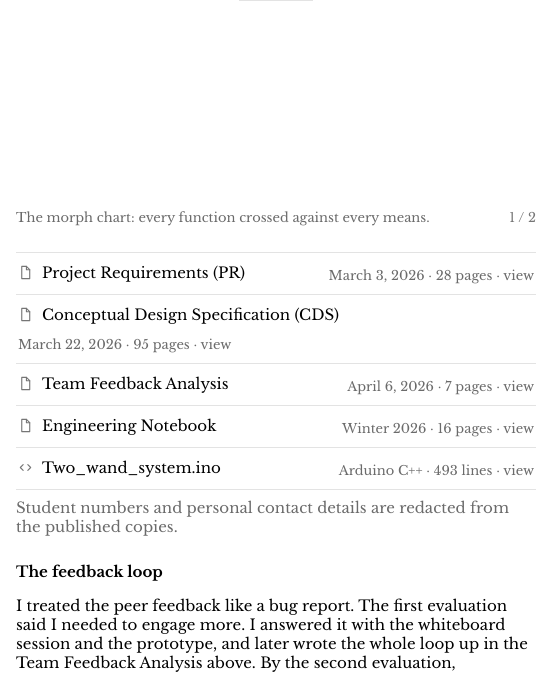
Scenario: the document shelf opens PDFs in the in-page reader
The image size is (553, 673).
(page scrolled)
Click the button "Conceptual Design Specification" at (190, 315), box [16, 296, 536, 364]
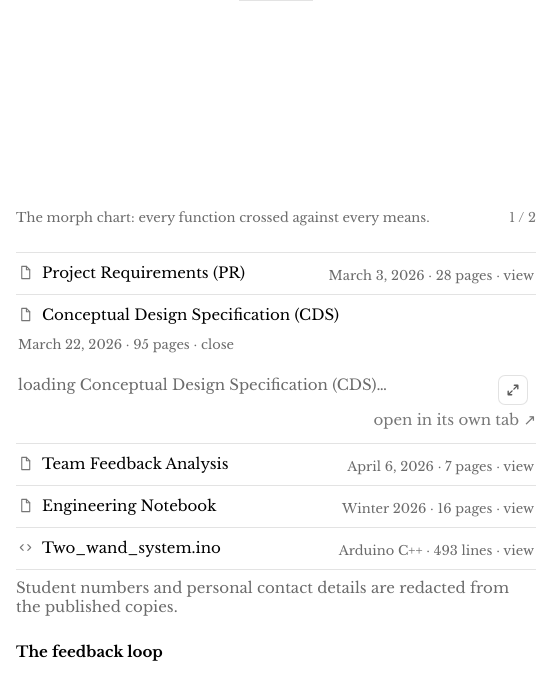
Expected: the button "Conceptual Design Specification" is expanded, [16, 296, 536, 364]
Expected: the element showing "loading Conceptual Design Specification (CDS)…" is shown, [18, 376, 387, 394]
